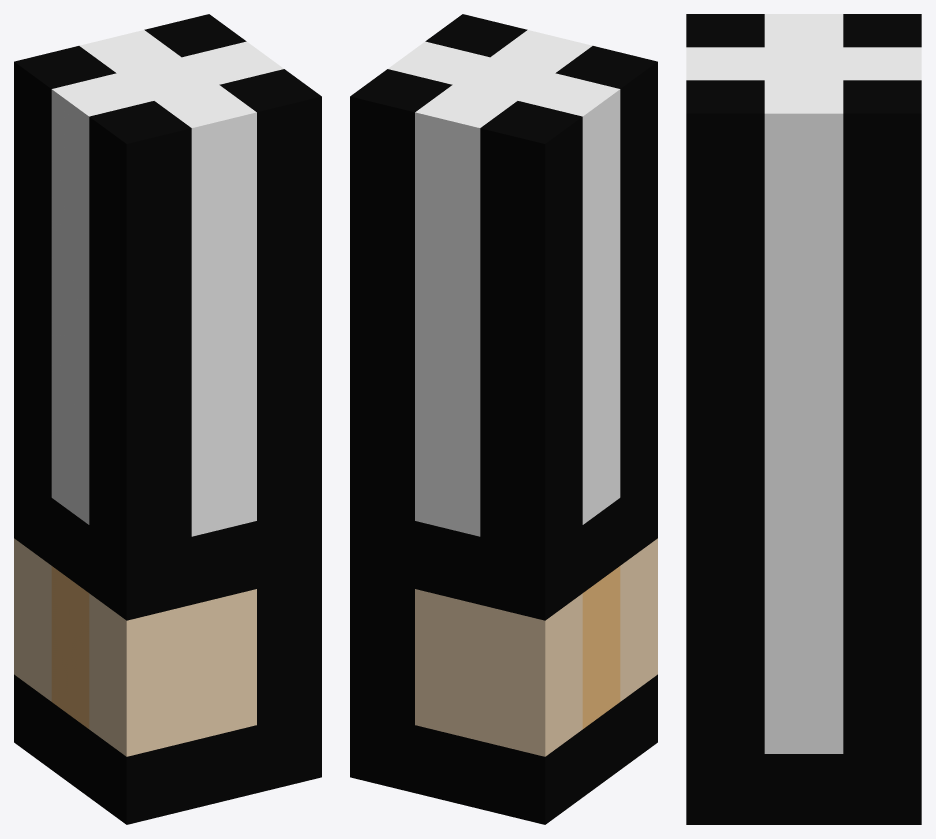
Rendered from LowerLeftArm.obj.
3 views of the same model, side by side, from view 1: azimuth 30°, elevation 25°; view 2: azimuth 150°, elevation 25°; view 3: azimuth 270°, elevation 25° (orthographic). The views are drawn at different scales.
Visible parts, largest first — view 1: LowerLeftArm; view 2: LowerLeftArm; view 3: LowerLeftArm.
Part boxes in pixels (box(x1,y1,x2,y2)): LowerLeftArm: box(14, 14, 321, 824); LowerLeftArm: box(350, 14, 657, 824); LowerLeftArm: box(686, 14, 921, 824).
Bounding box in the file's own units: 0.3 × 1 × 0.3.
1 material, 1 textured.
